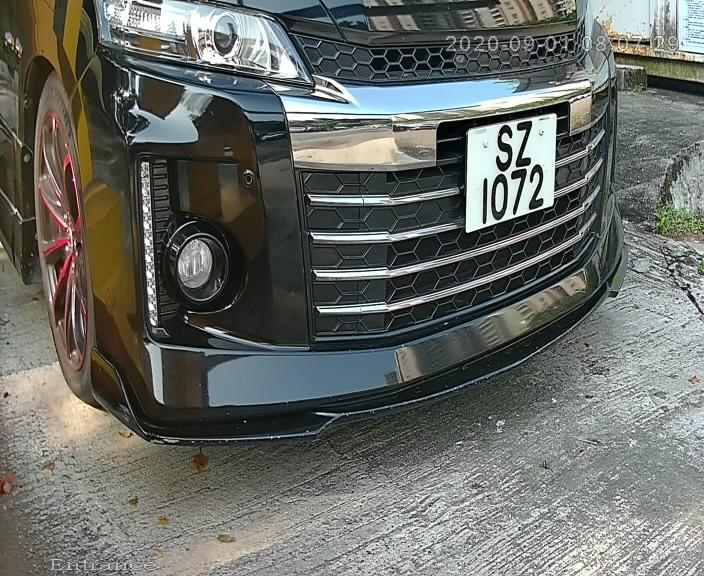License Plate: (456, 101, 563, 247)
